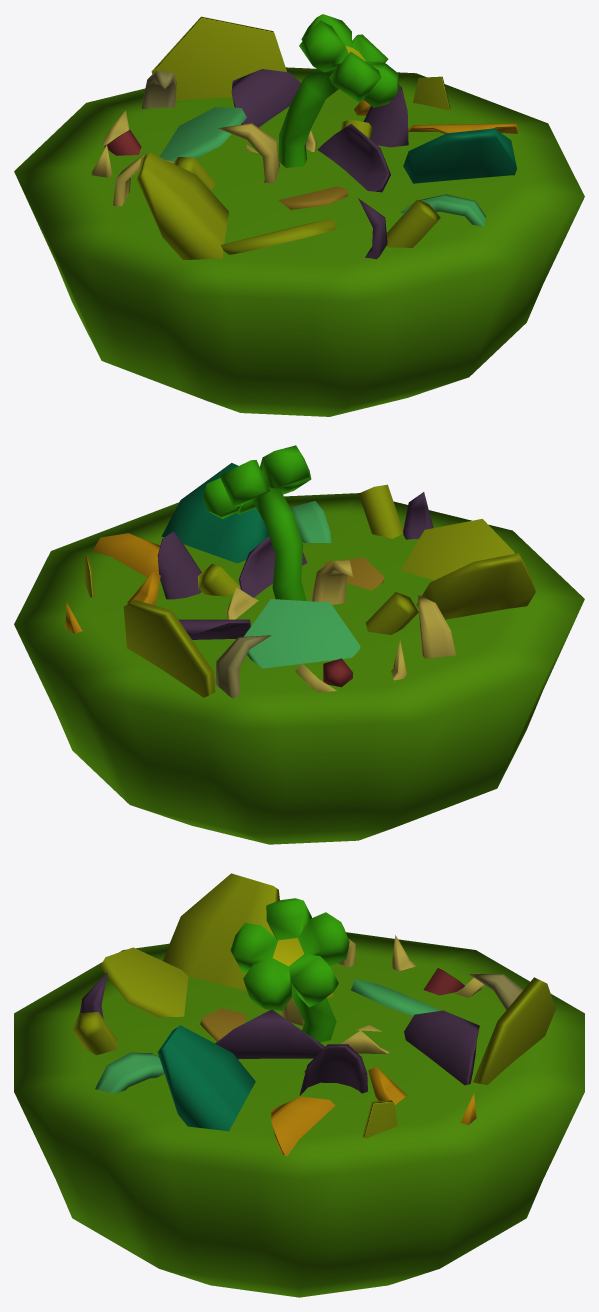
Rendered from dish_L1_boss_winter_salad.fbx.
3 views of the same model, one above another, from view 1: azimuth 30°, elevation 25°; view 2: azimuth 150°, elevation 25°; view 3: azimuth 270°, elevation 25° (orthographic). The views are drawn at different scales.
Visible parts, largest first — view 1: dish_L1_boss_winter_salad; view 2: dish_L1_boss_winter_salad; view 3: dish_L1_boss_winter_salad.
Boxes of the visible parts, x1,y1,x2,y2 form: dish_L1_boss_winter_salad: (14, 14, 584, 416); dish_L1_boss_winter_salad: (14, 445, 584, 844); dish_L1_boss_winter_salad: (14, 873, 584, 1297).
Size of the model in its own units: 0.8339 by 0.5282 by 0.7931.
